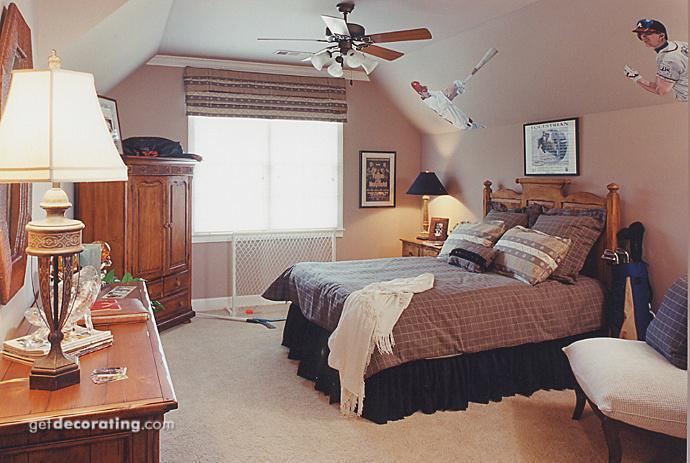Armario: (129, 160, 194, 328)
Cama: (302, 184, 615, 407)
Otro Obstaculo: (611, 229, 651, 342)
Ventana: (187, 87, 341, 235)
